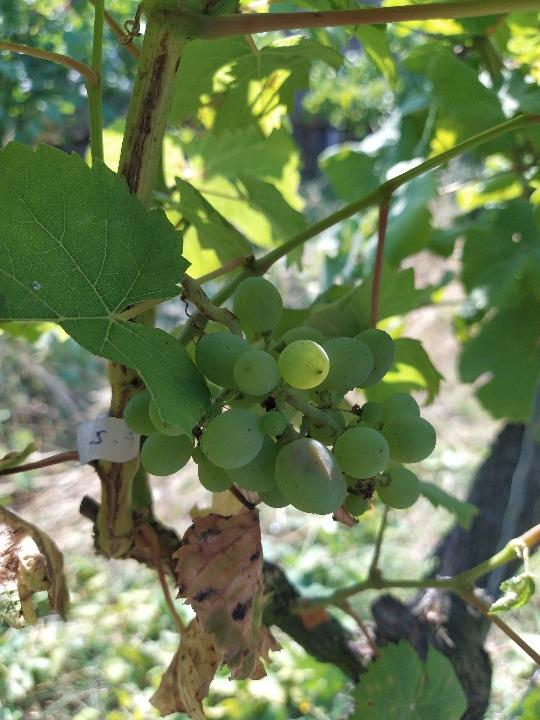grape: (119, 274, 442, 518)
